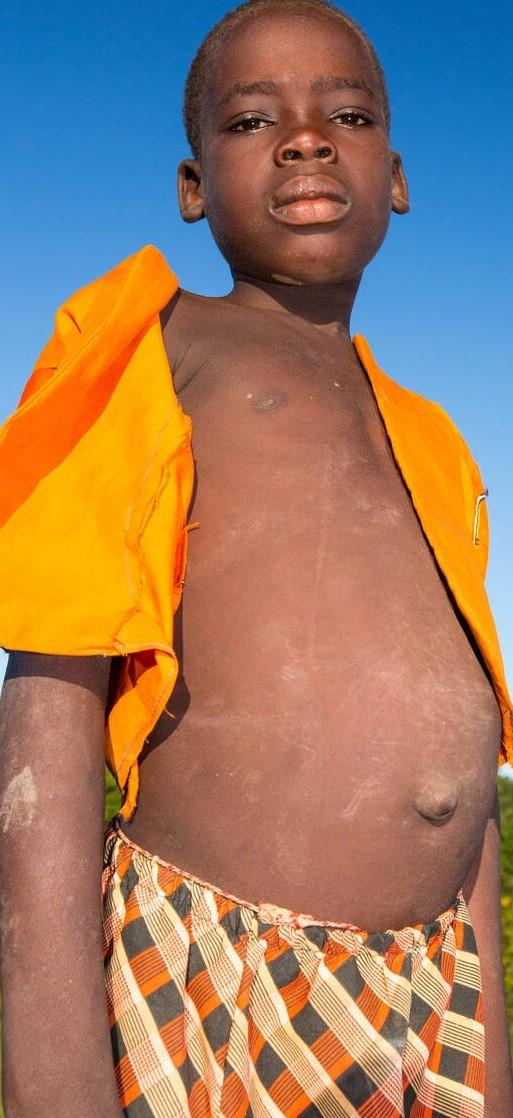Stunting: (157, 20, 467, 377)
